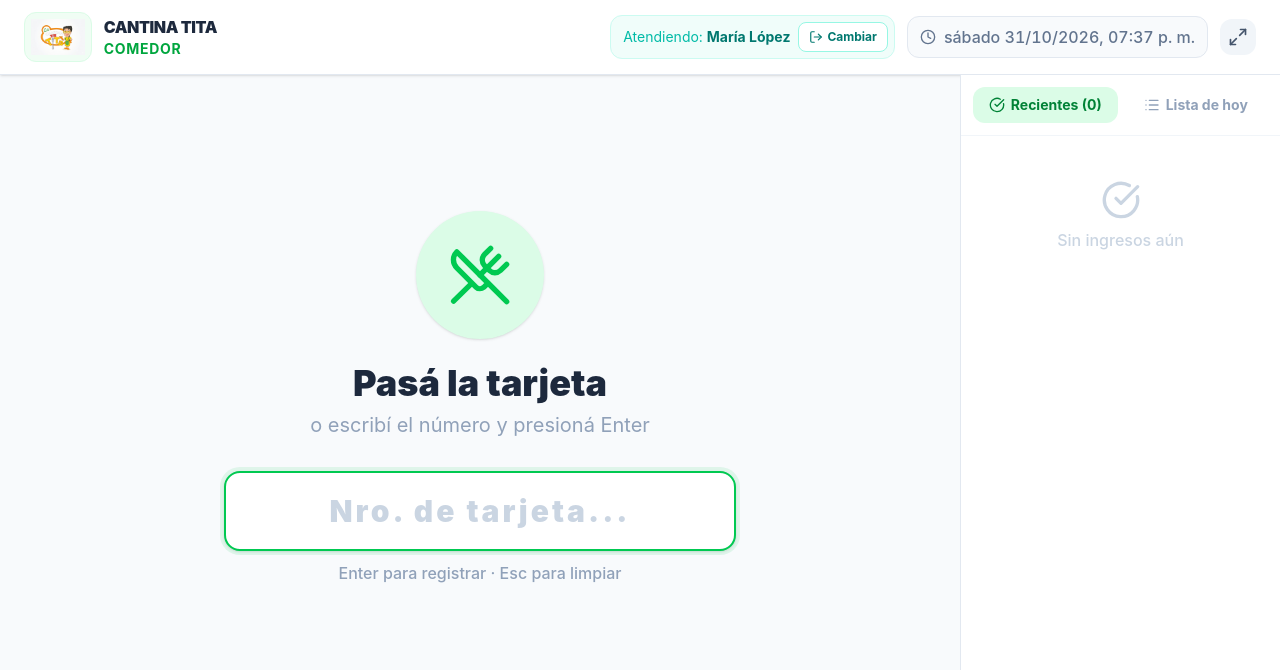
Scenario: Comedor — flujo de escaneo › 2do intento después de 240s → se registra como "2do ingreso", sin cargo adicional
This screenshot has width=1280, height=670.
Type "T-001" into the field with placeholder "Nro. de tarjeta...".
click(480, 510); type("T-001")  # box [224, 470, 736, 550]
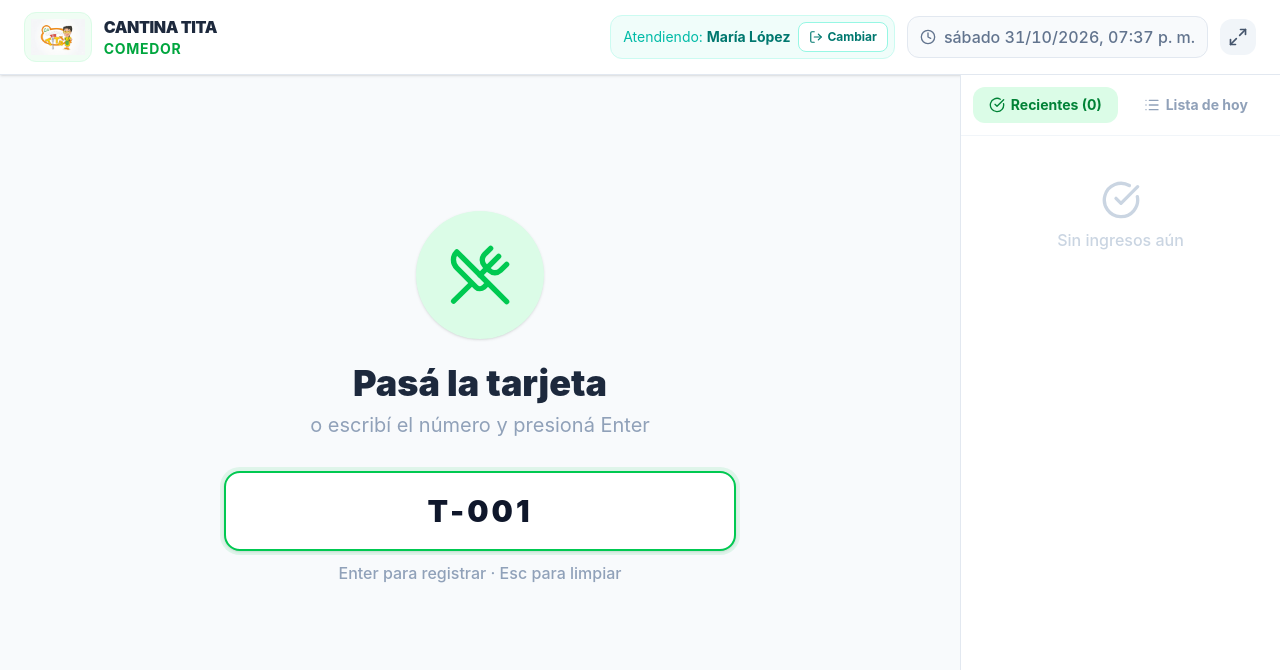
Press Enter
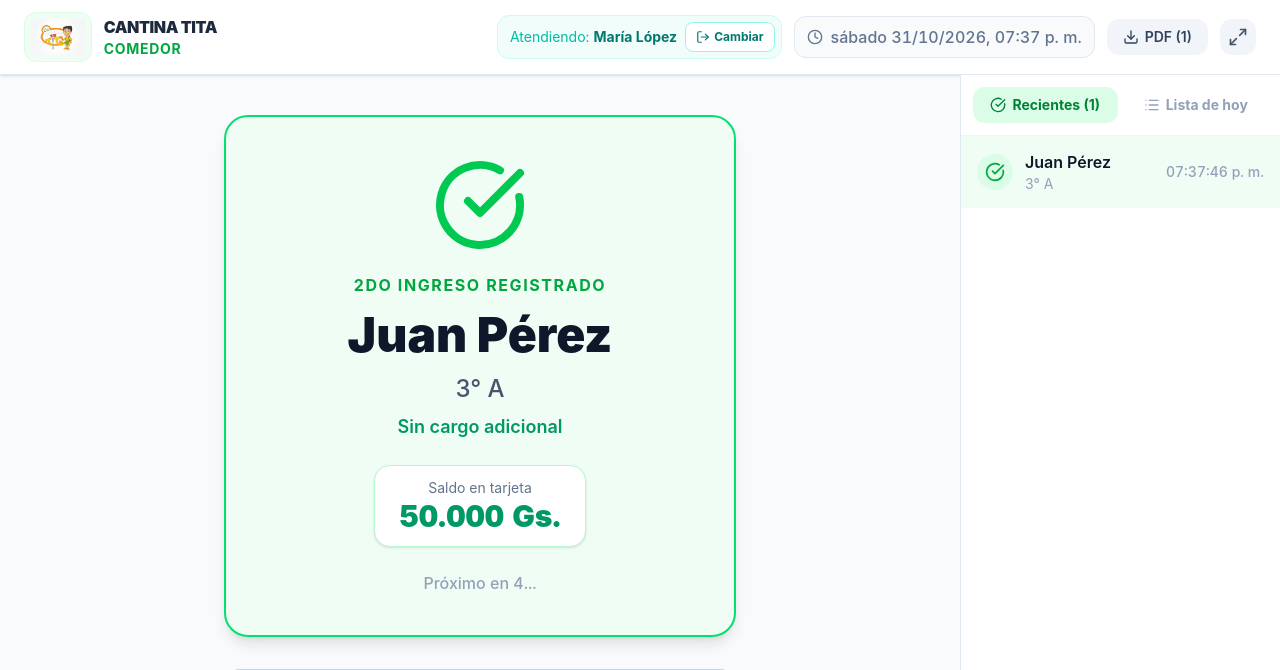
Now the text "2do ingreso registrado" is shown, box [354, 275, 606, 295]
Now the text "Sin cargo adicional" is shown, box [398, 416, 562, 437]
